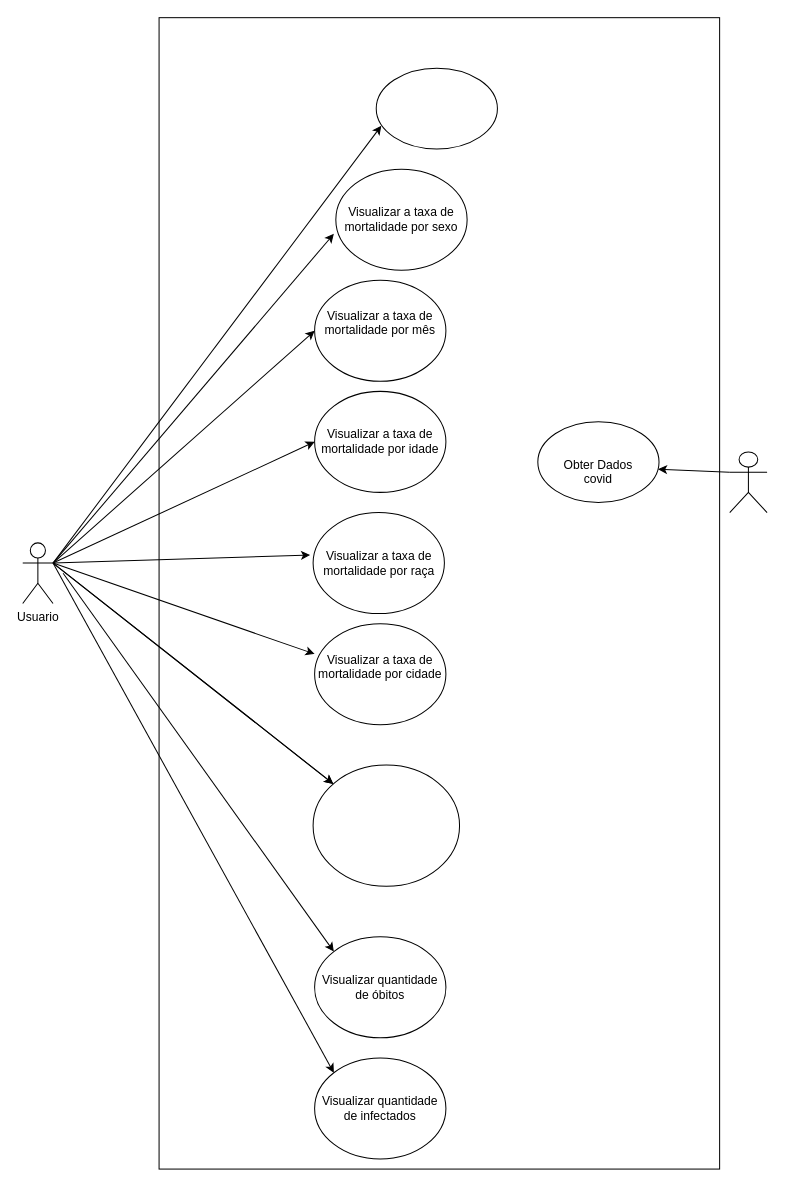
This 788x1187 diagram has some shape labels left out. The shapes that lost their labels are listed below. From the top down, each one's centre as x and y in pixels, then its label:
the point at 436,108: Processo de autenticação
the point at 748,482: Sistema
the point at 386,825: Visualizar a taxa de mortalidade por sintomas
